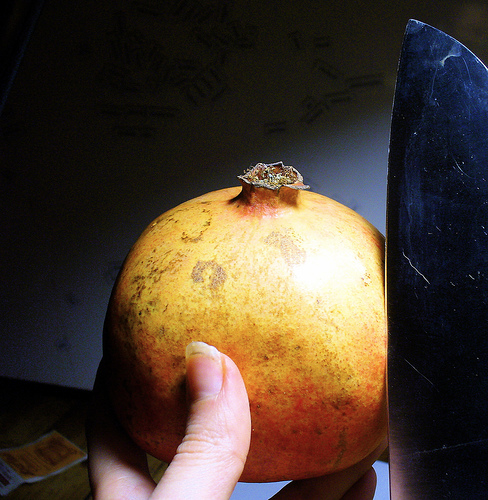pomogranate: (107, 160, 391, 481)
